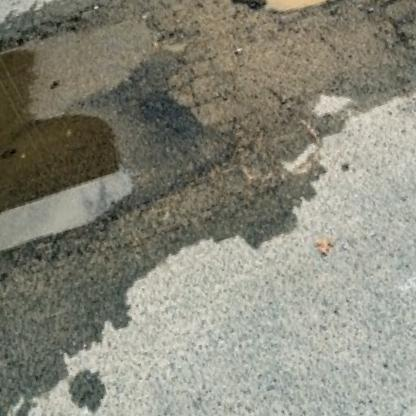pothole: (221, 0, 416, 31)
